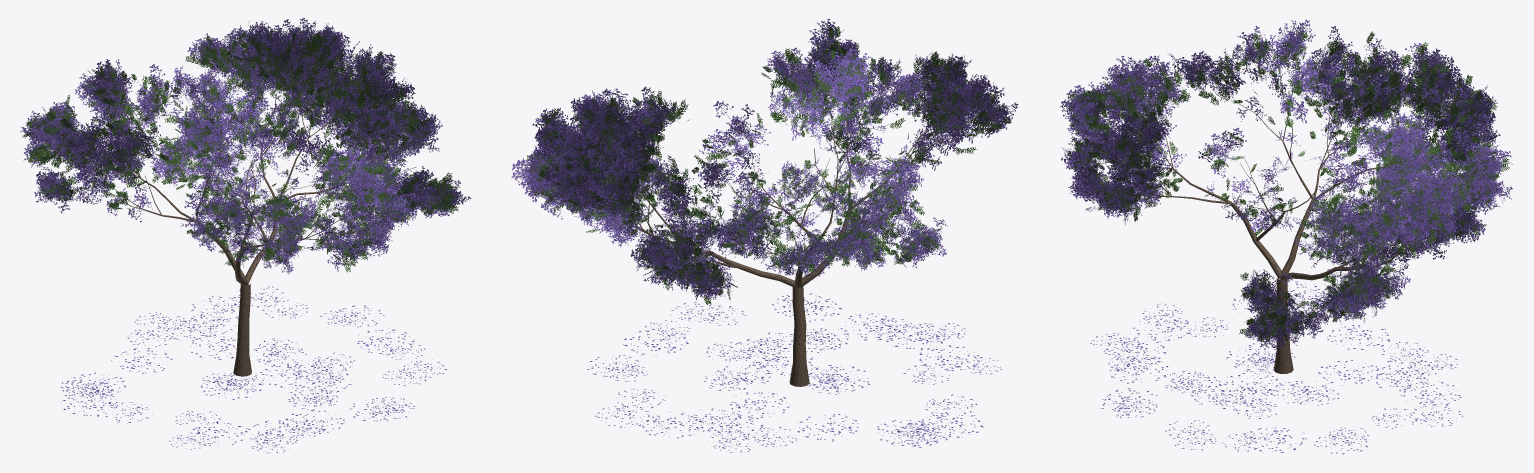
The model's file is caroba_10anos.glb.
The picture shows the model from 3 angles, left to right: view 1: azimuth 30°, elevation 25°; view 2: azimuth 150°, elevation 25°; view 3: azimuth 270°, elevation 25°; orthographic projection. The views are drawn at different scales.
Visible parts, largest first — view 1: Caroba; view 2: Caroba; view 3: Caroba.
Part boxes in pixels (x1=…): Caroba: x1=20, y1=18, x2=471, y2=453; Caroba: x1=511, y1=19, x2=1018, y2=452; Caroba: x1=1060, y1=19, x2=1512, y2=454.
Size of the model in its own units: 9.61 by 7 by 8.97.
3 materials, 3 textured.
